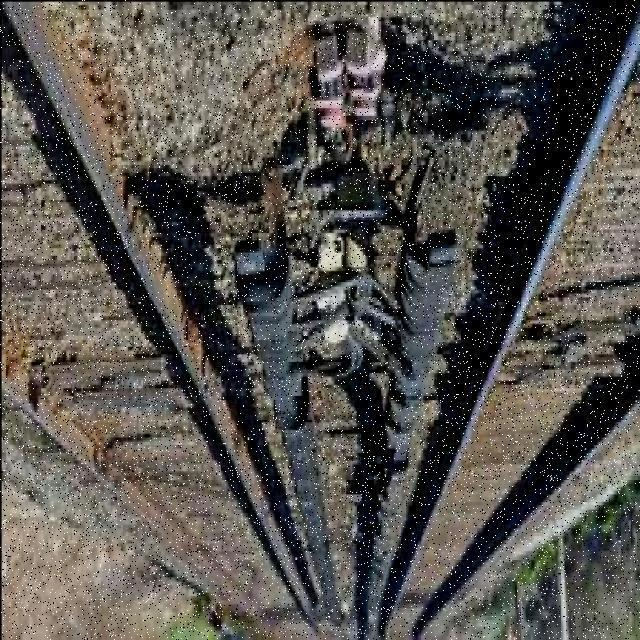rail: (1, 1, 337, 640), (377, 7, 640, 640)
